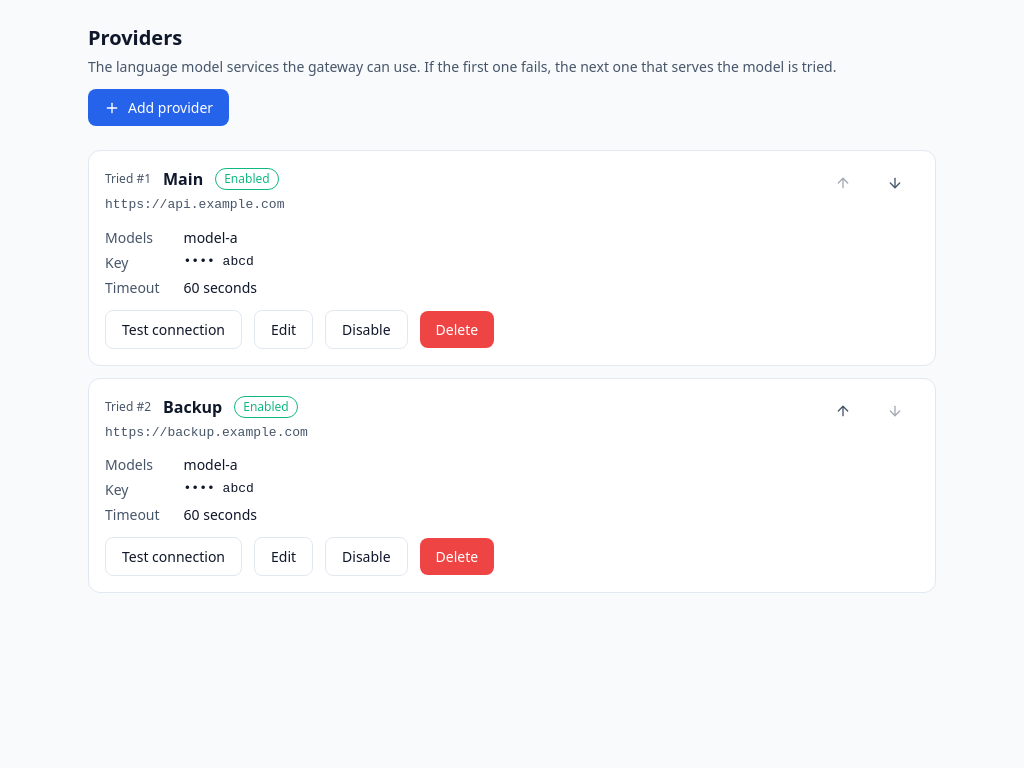
ProvidersPage › reports a failed connection test by category
Click the button "Test connection" below "Main".
click(174, 329)  # box [105,310,242,348]
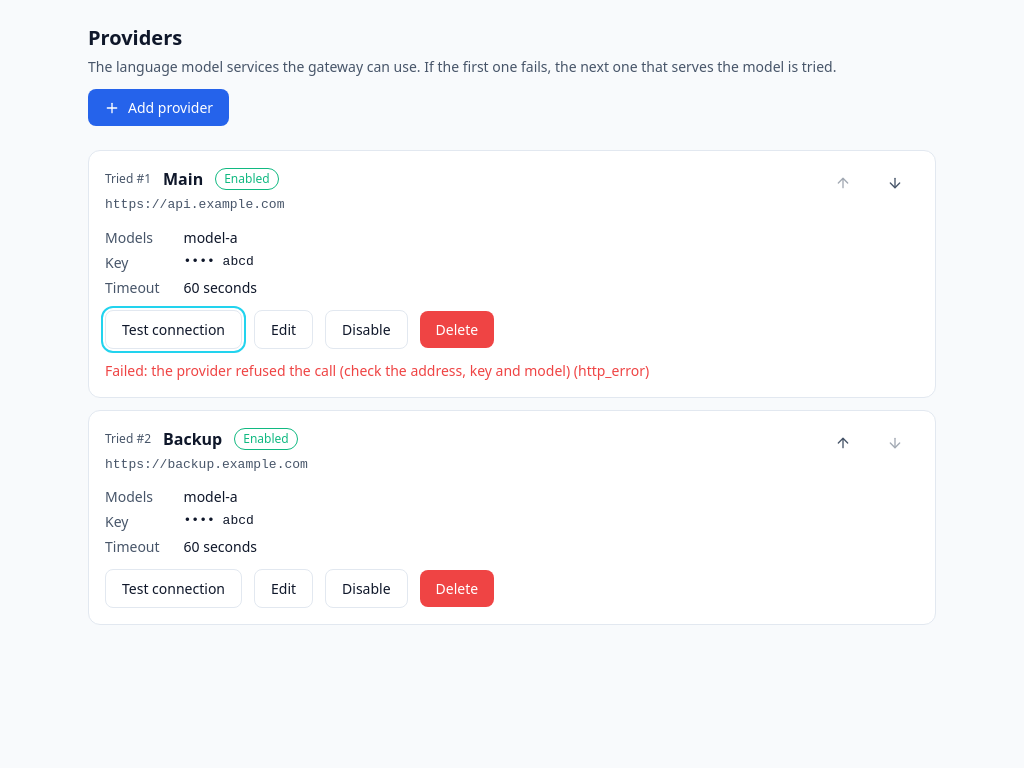
Result: the text "Failed: the provider refused the call (check the address, key and model) (http_error)" is shown at [105,360,649,380]
